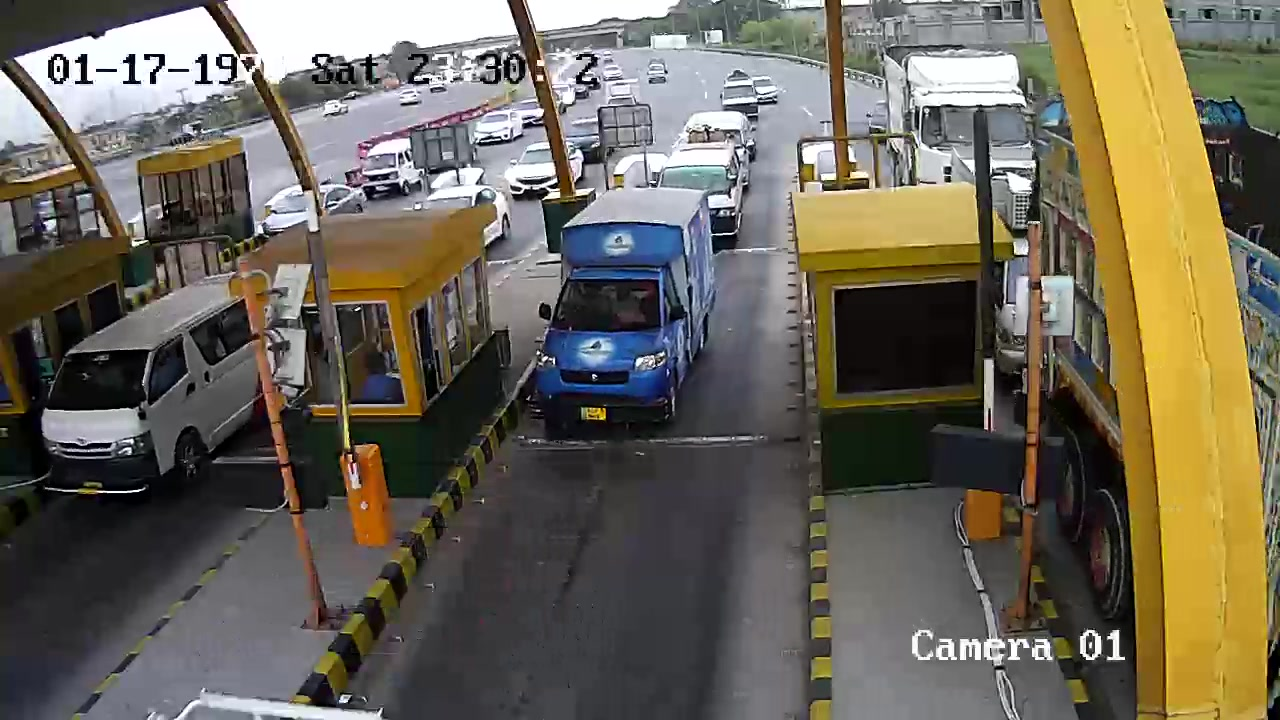F2: (528, 176, 716, 444)
